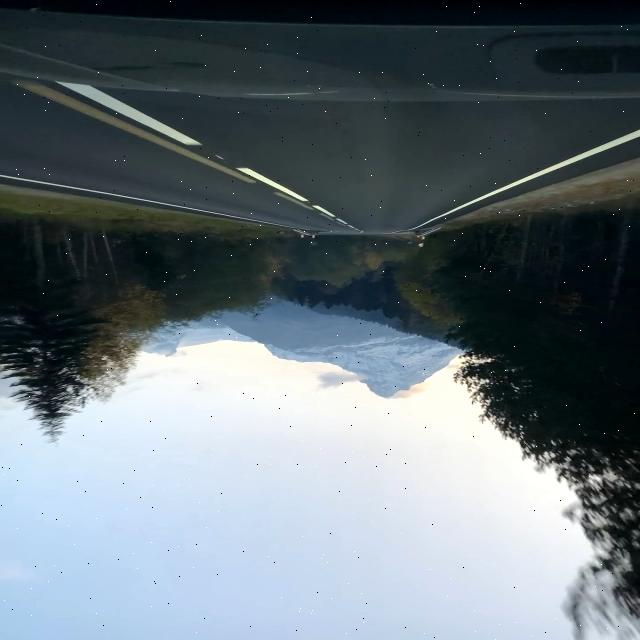lane: (409, 131, 640, 229), (58, 82, 200, 145), (238, 168, 309, 201)
